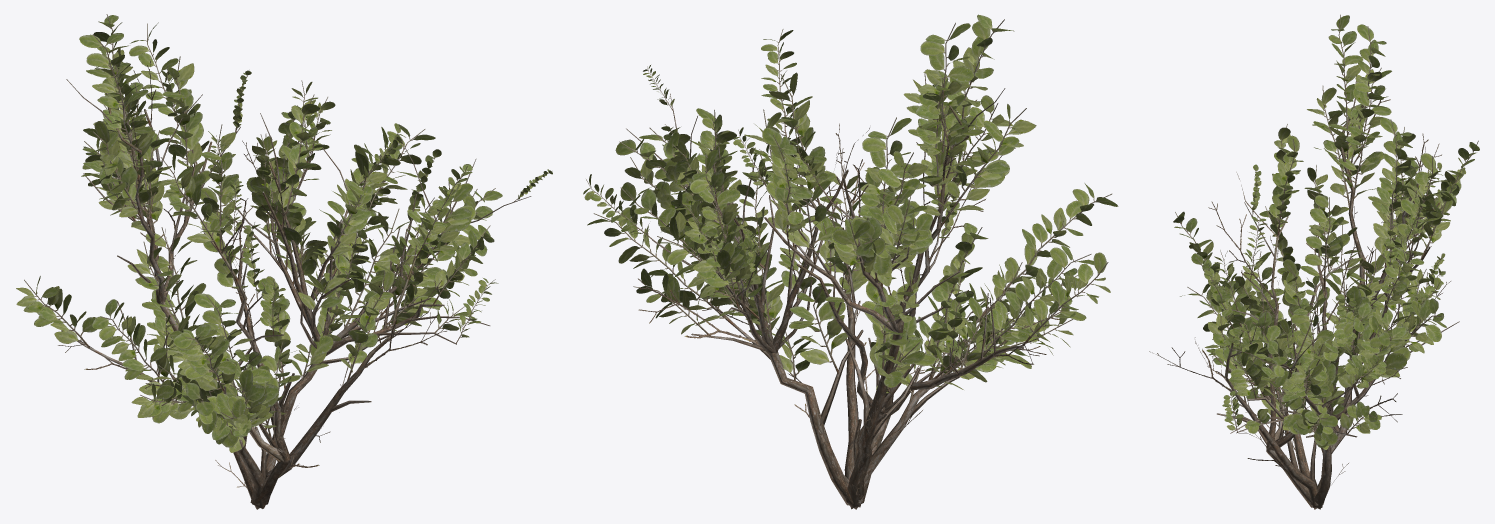
File: UE_searsia_lucida_e.gltf
3 renders of one model, left to right at view 1: azimuth 30°, elevation 25°; view 2: azimuth 150°, elevation 25°; view 3: azimuth 270°, elevation 25°, orthographic. The views are drawn at different scales.
Parts seen in each view (by area): view 1: searsia_lucida_e; view 2: searsia_lucida_e; view 3: searsia_lucida_e.
Part boxes in pixels (x1,y1,x2,y2): searsia_lucida_e: (16, 14, 552, 509); searsia_lucida_e: (583, 14, 1118, 509); searsia_lucida_e: (1149, 14, 1479, 509).
Bounding box in the file's own units: 1.03 × 1.02 × 0.7159.
3 materials, 3 textured.
